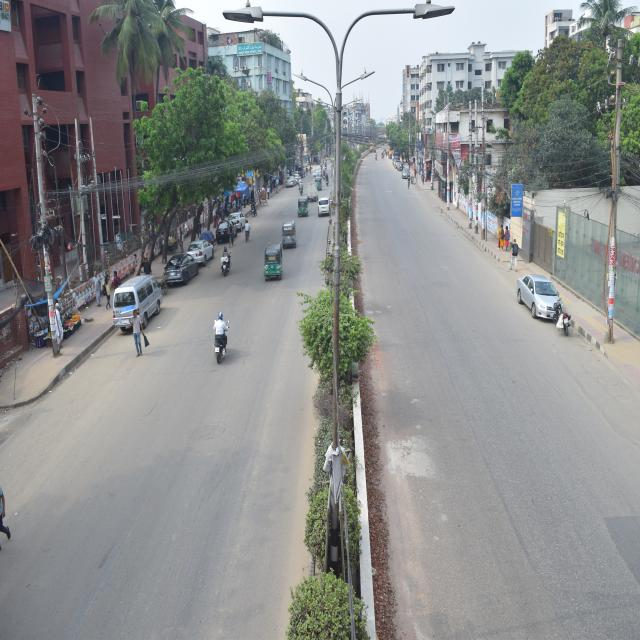car: (514, 263, 563, 327), (162, 251, 204, 294), (188, 235, 218, 274), (229, 198, 248, 238), (218, 216, 235, 253)
microbus: (111, 265, 164, 337), (315, 194, 331, 216)
motorbike: (206, 317, 234, 370), (548, 296, 574, 338), (214, 248, 230, 280), (10, 515, 42, 521)
